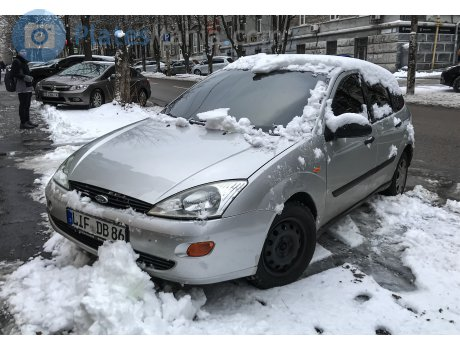License Plates: (68, 214, 123, 237)
